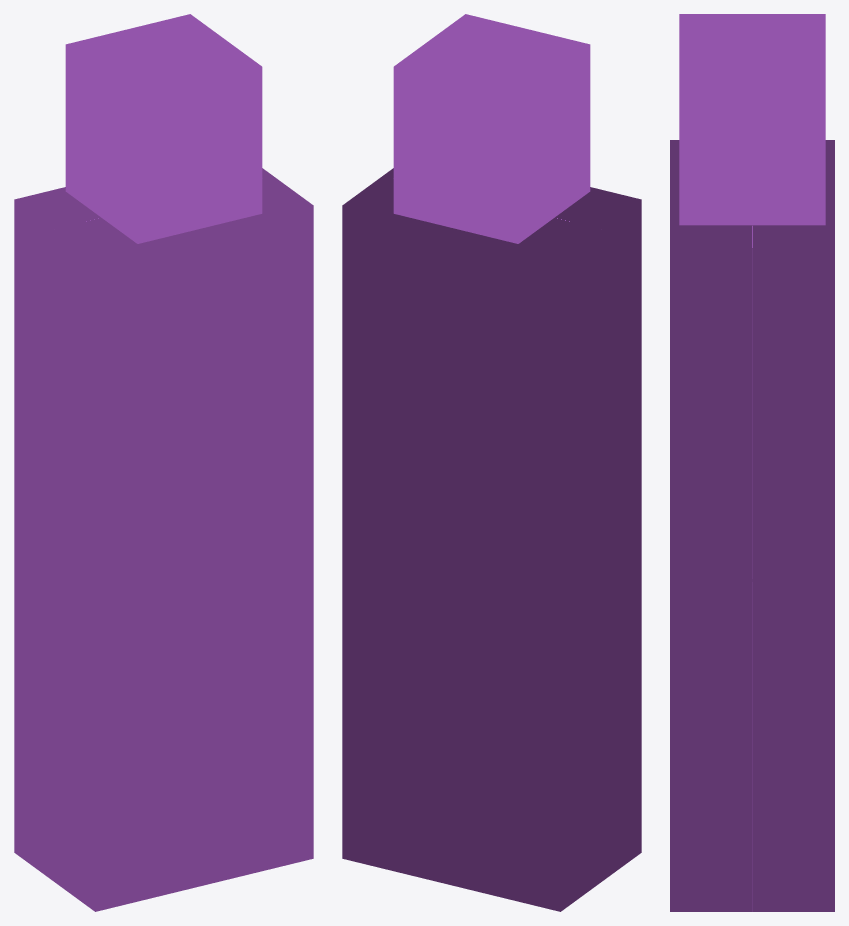
3 views of the same model, side by side, from view 1: azimuth 30°, elevation 25°; view 2: azimuth 150°, elevation 25°; view 3: azimuth 270°, elevation 25° (orthographic).
Visible parts, largest first — view 1: Root; view 2: Root; view 3: Root.
Boxes of the visible parts, <box> form: Root: <box>14,14,313,911</box>; Root: <box>342,14,641,911</box>; Root: <box>670,14,834,911</box>.
Bounding box in the file's own units: 0.56 × 1.96 × 0.36.
